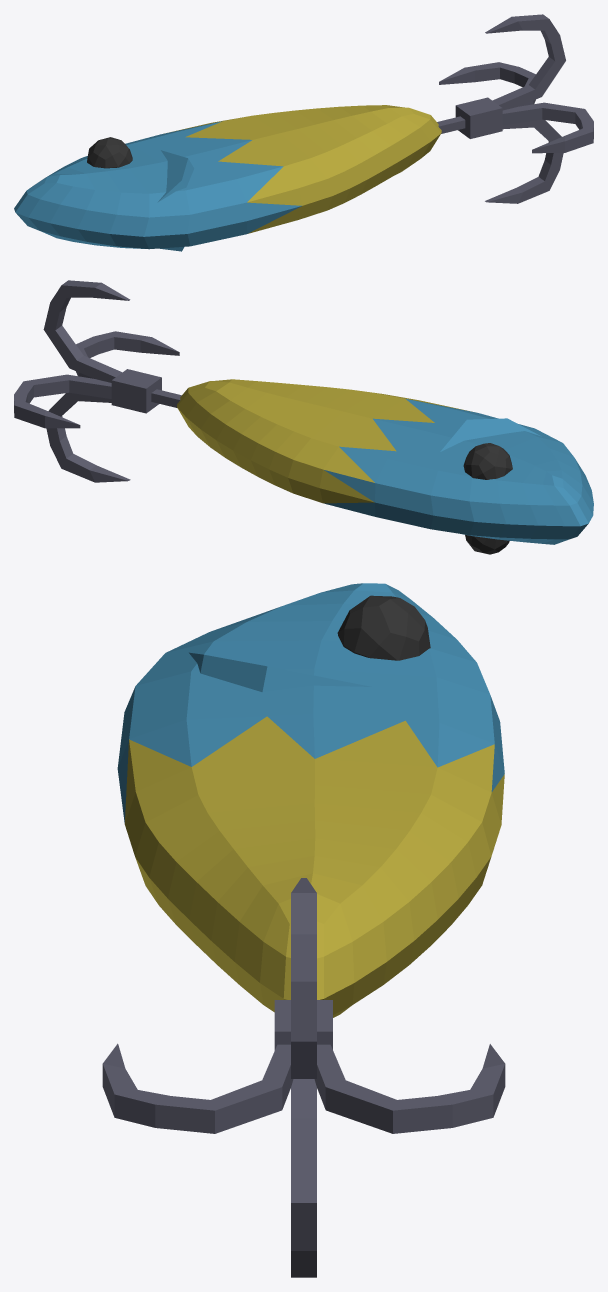
Rendered from Lure_5.glb.
3 views of the same model, one above another, from view 1: azimuth 30°, elevation 25°; view 2: azimuth 150°, elevation 25°; view 3: azimuth 270°, elevation 25° (orthographic). The views are drawn at different scales.
Visible parts, largest first — view 1: Lure_5; view 2: Lure_5; view 3: Lure_5.
Boxes of the visible parts, x1,y1,x2,y2 form: Lure_5: [14, 14, 593, 251]; Lure_5: [14, 280, 593, 554]; Lure_5: [102, 583, 505, 1277].
Size of the model in its own units: 1.87 by 0.6167 by 0.6167.
